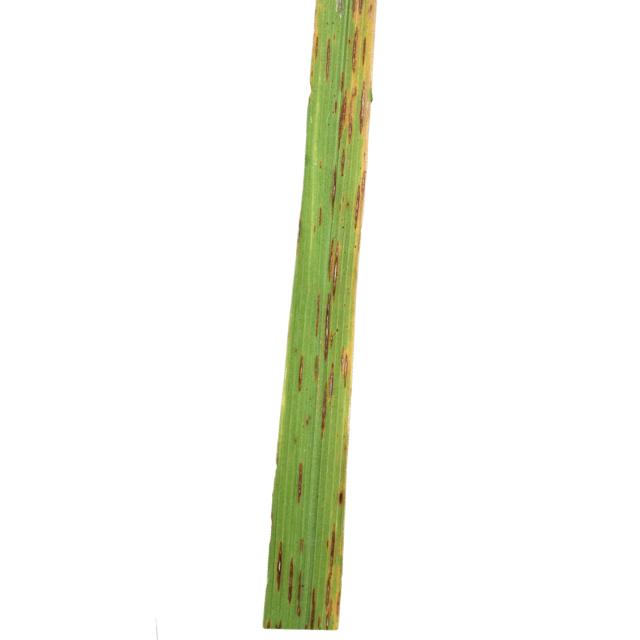Narrow brown: (227, 0, 406, 640)
